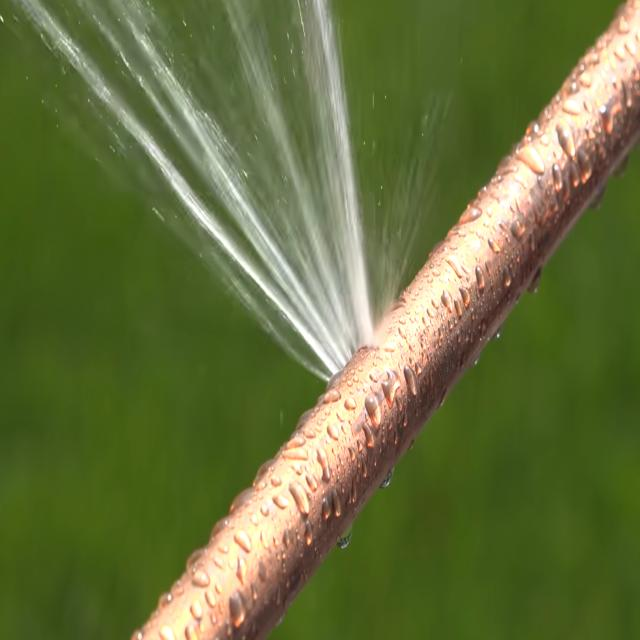leak: (0, 0, 422, 378)
